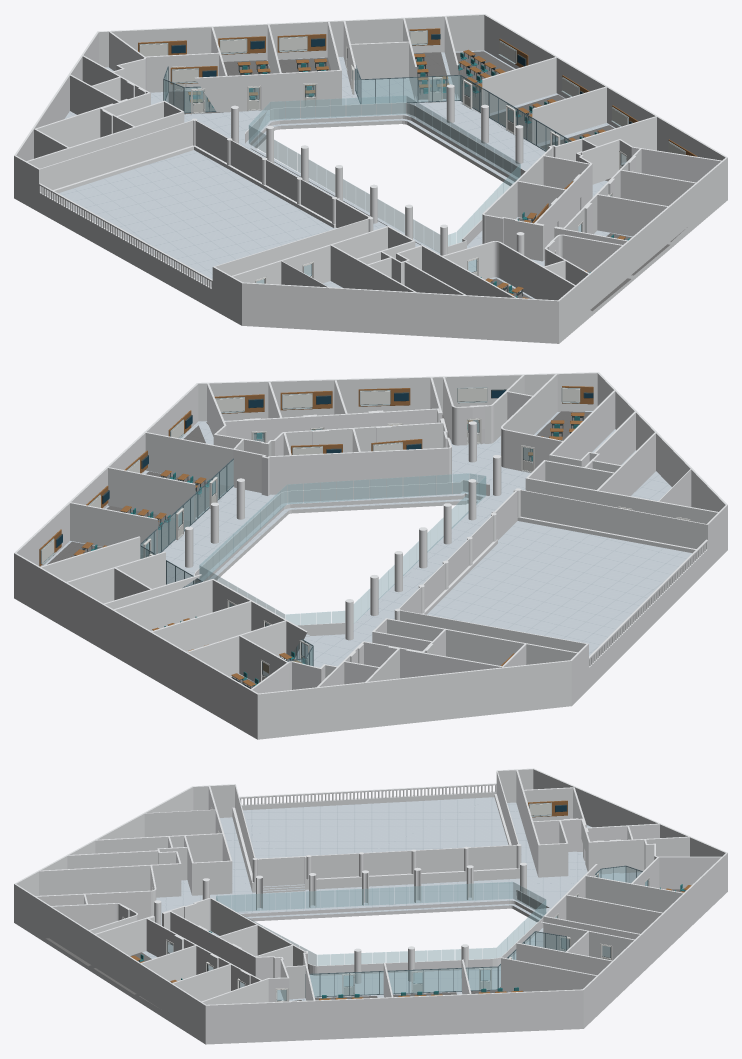
The model's file is NVHSV_Tang6_V3_modern.glb.
3 views of the same model, one above another, from view 1: azimuth 30°, elevation 25°; view 2: azimuth 150°, elevation 25°; view 3: azimuth 270°, elevation 25° (orthographic). The views are drawn at different scales.
Visible parts, largest first — view 1: Original architectural shell, Modern glazing 0-2, Modern glazing 0-3, 606 floor finish, 605 floor finish, 607 floor finish, 602 floor finish; view 2: Original architectural shell, Modern glazing 0-3, 607 floor finish, 614 floor finish, 608 floor finish; view 3: Original architectural shell, Modern glazing 0-3, Modern glazing 0-1.
Part boxes in pixels (<box>): Original architectural shell: <box>14,14,727,343</box>; Modern glazing 0-2: <box>361,75,460,103</box>; Modern glazing 0-3: <box>461,76,570,150</box>; 606 floor finish: <box>456,51,513,113</box>; 605 floor finish: <box>414,52,448,99</box>; 607 floor finish: <box>490,94,564,141</box>; 602 floor finish: <box>168,91,223,114</box>; Original architectural shell: <box>14,372,727,739</box>; Modern glazing 0-3: <box>140,460,233,558</box>; 607 floor finish: <box>107,506,192,553</box>; 614 floor finish: <box>523,411,591,460</box>; 608 floor finish: <box>146,471,230,517</box>; Original architectural shell: <box>14,768,727,1044</box>; Modern glazing 0-3: <box>309,967,497,996</box>; Modern glazing 0-1: <box>535,932,566,951</box>.
Size of the model in its own units: 78.55 by 6 by 99.92.
34 materials, 19 textured.
